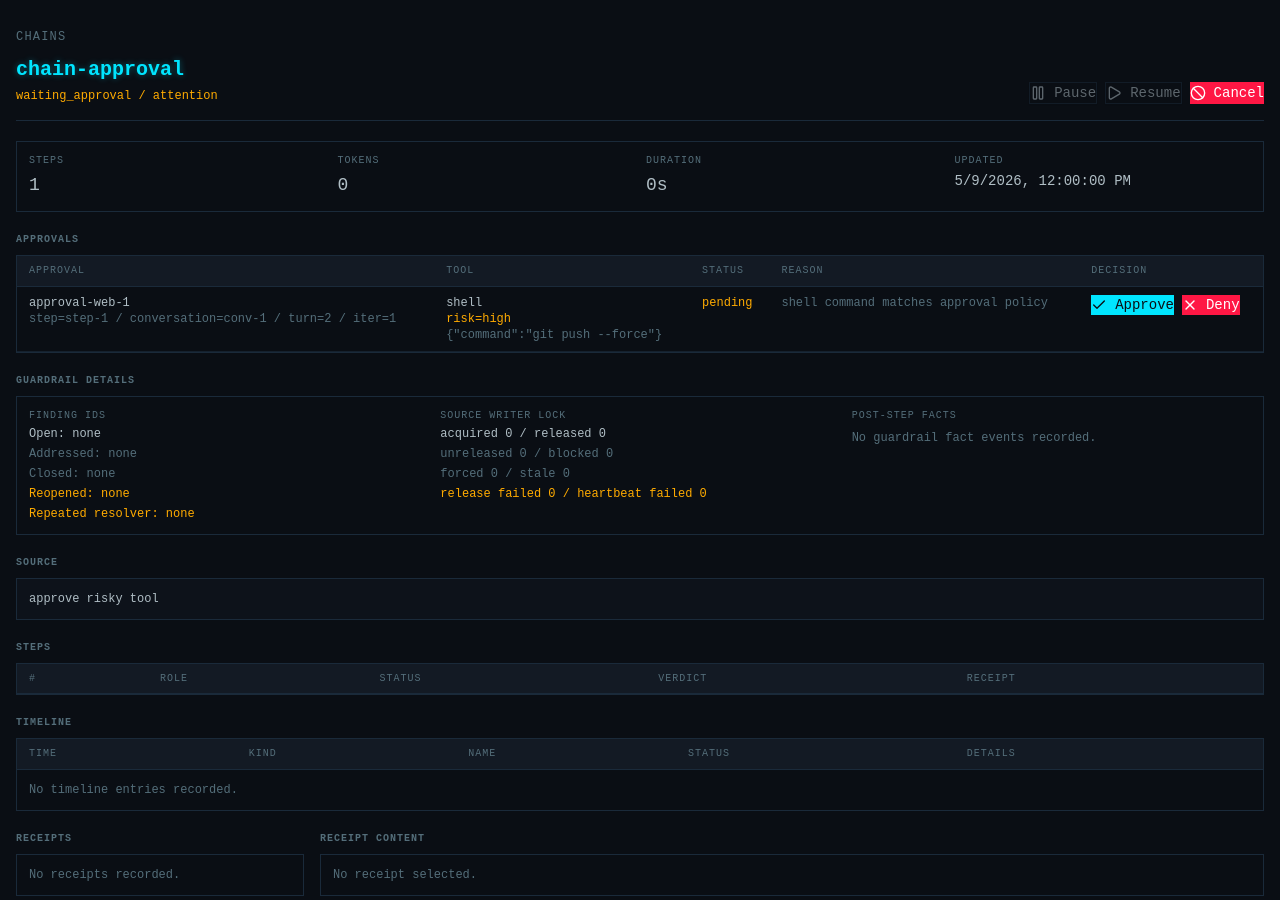
it: ChainDetailPage › renders approval controls and refreshes detail after approving
This screenshot has width=1280, height=900.
Check: the heading "Approvals" is shown, box [16,232,79,247]
Check: the text "approval-web-1" is shown, box [29,296,130,310]
Click the button "Approve" at (1132, 305), box [1091,295,1174,315]
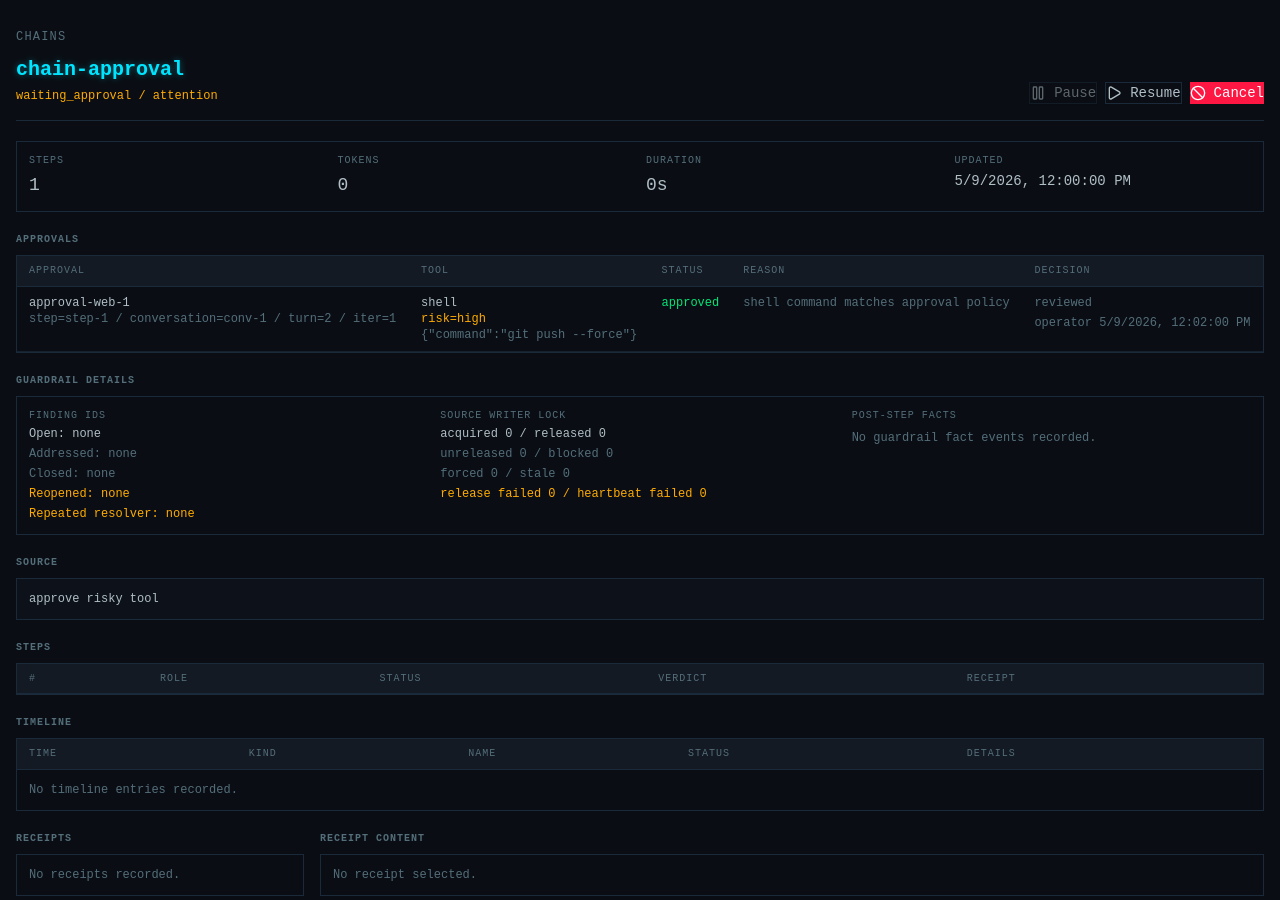
Check: the text "approved" is shown, box [650,286,731,351]
Check: the text "reviewed" is shown, box [1034,296,1092,310]
